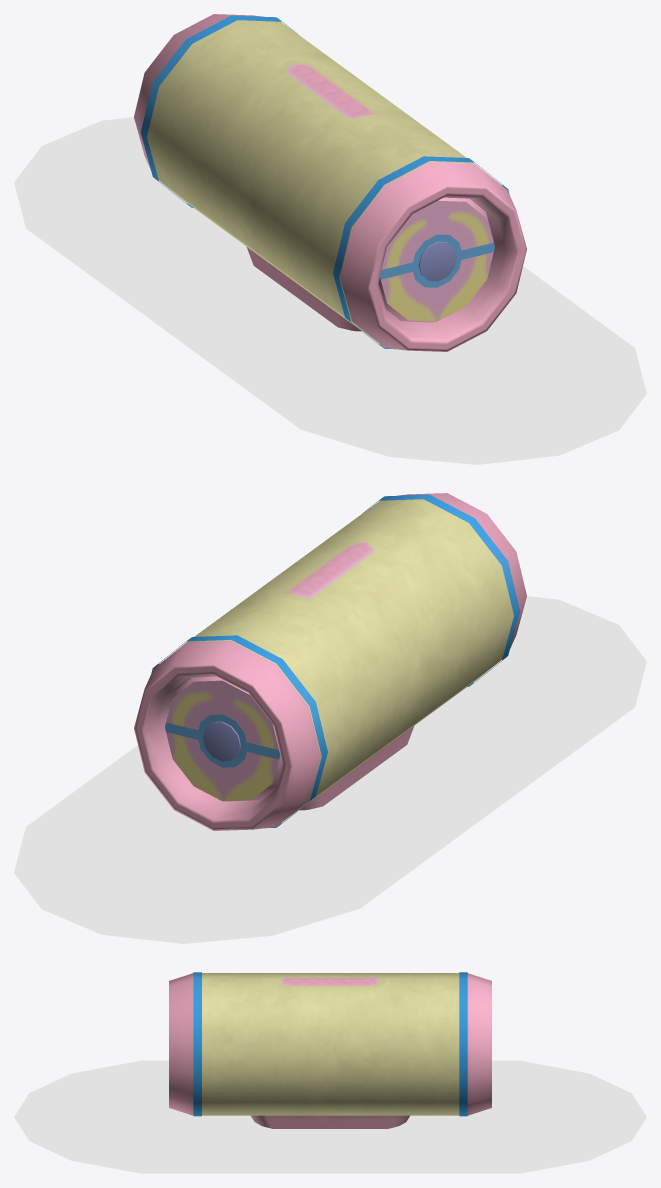
The model's file is a_sch_2_clubroom03_speaker01.gltf.
3 renders of one model, top to bottom at view 1: azimuth 30°, elevation 25°; view 2: azimuth 150°, elevation 25°; view 3: azimuth 270°, elevation 25°, orthographic. The views are drawn at different scales.
Visible parts, largest first — view 1: um_a_sch_2_clubroom03_speaker01_model_a_sch_2_clubroom03_spe (×2); view 2: um_a_sch_2_clubroom03_speaker01_model_a_sch_2_clubroom03_spe (×2); view 3: um_a_sch_2_clubroom03_speaker01_model_a_sch_2_clubroom03_spe (×2).
Part boxes in pixels (x1,y1,x2,y2): um_a_sch_2_clubroom03_speaker01_model_a_sch_2_clubroom03_spe (×2): (14,14,646,464); um_a_sch_2_clubroom03_speaker01_model_a_sch_2_clubroom03_spe (×2): (14,493,646,943); um_a_sch_2_clubroom03_speaker01_model_a_sch_2_clubroom03_spe (×2): (14,972,646,1173).
Bounding box in the file's own units: 0.5178 × 0.2999 × 1.23.
2 materials, 1 textured.
